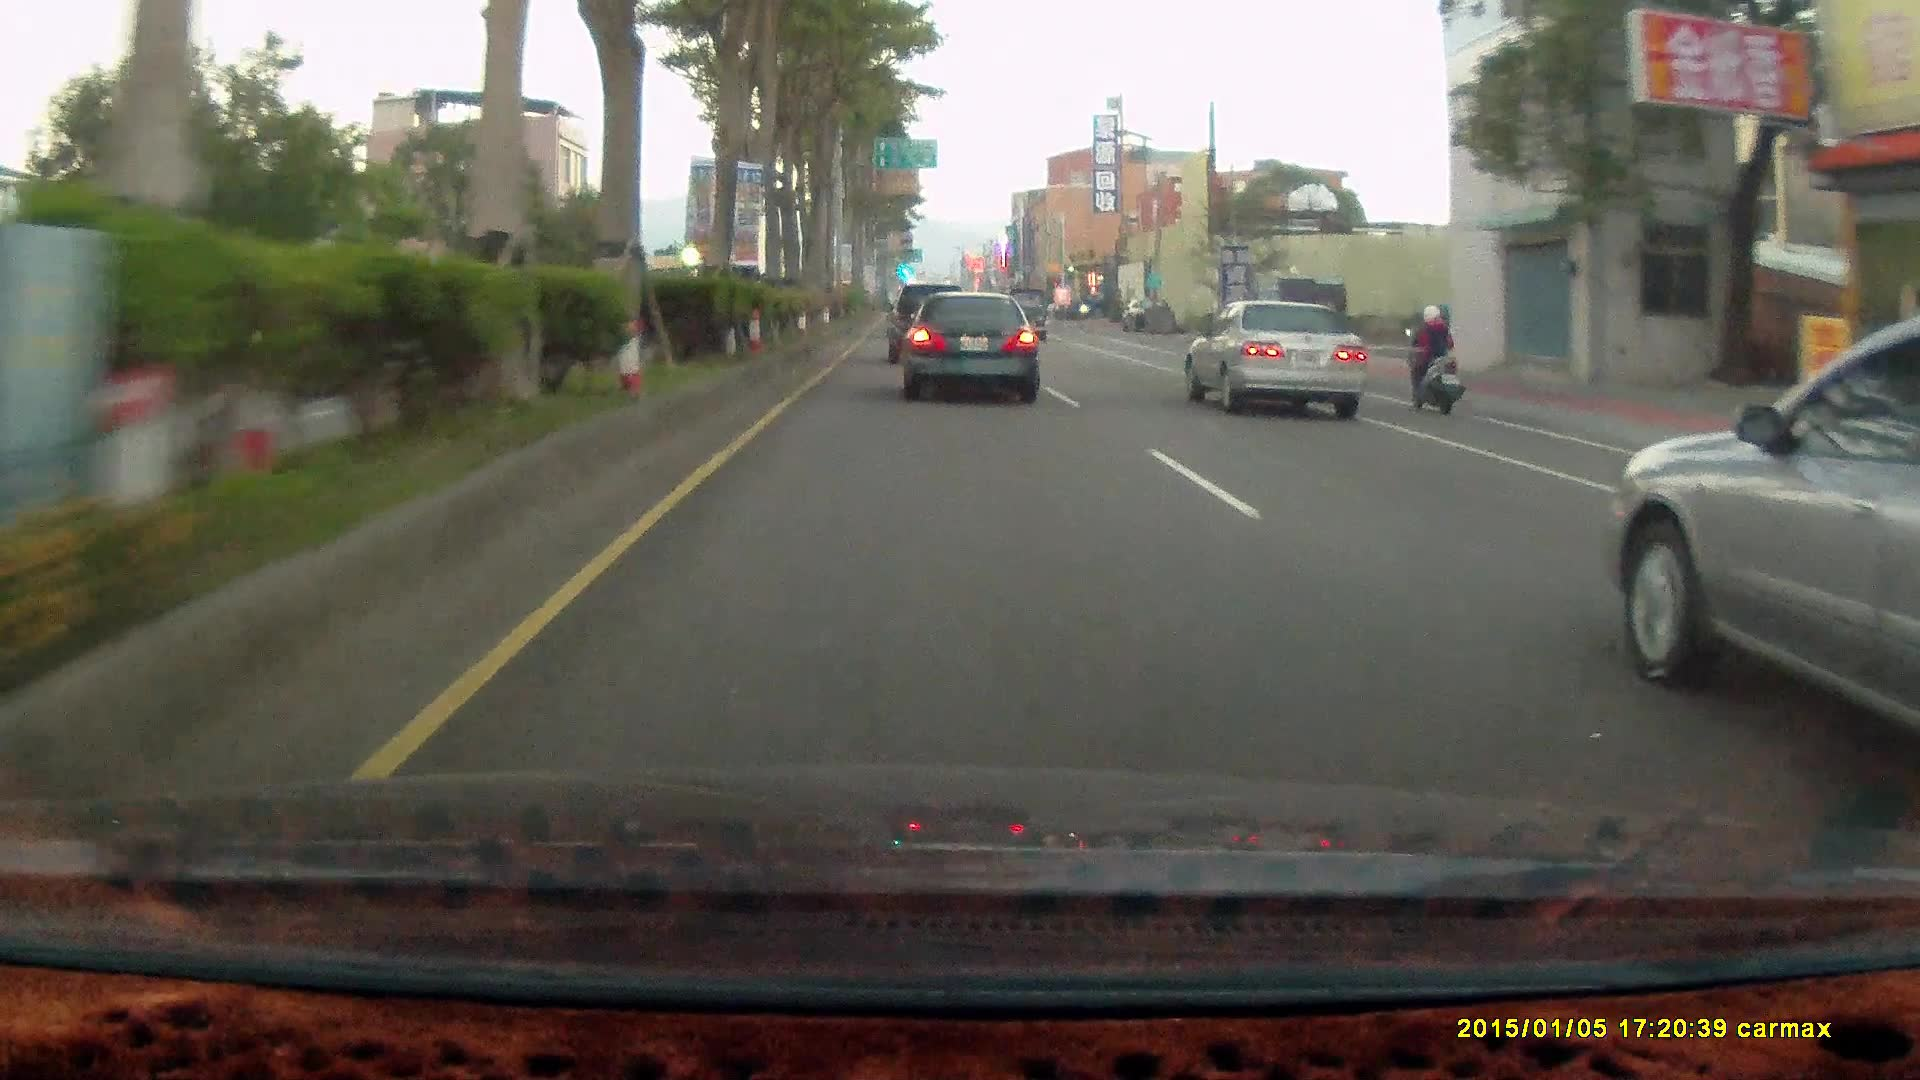rider: (1392, 293, 1475, 423), (1401, 298, 1466, 413)
vehicle: (1611, 333, 1920, 780), (1184, 299, 1366, 419), (1192, 302, 1371, 420), (900, 292, 1040, 404), (900, 290, 1039, 400), (1249, 280, 1348, 365), (887, 281, 969, 367), (887, 282, 968, 365), (1002, 284, 1049, 338)
